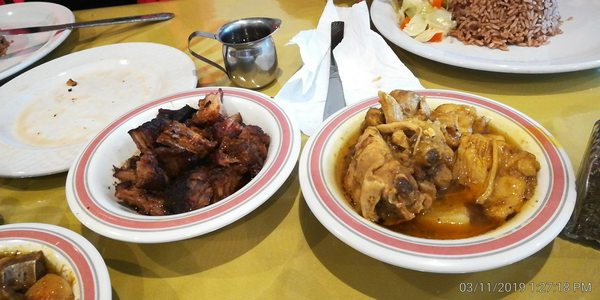pizza: (209, 17, 283, 89)
sushi: (297, 88, 573, 272), (72, 85, 298, 242), (0, 223, 115, 300)
